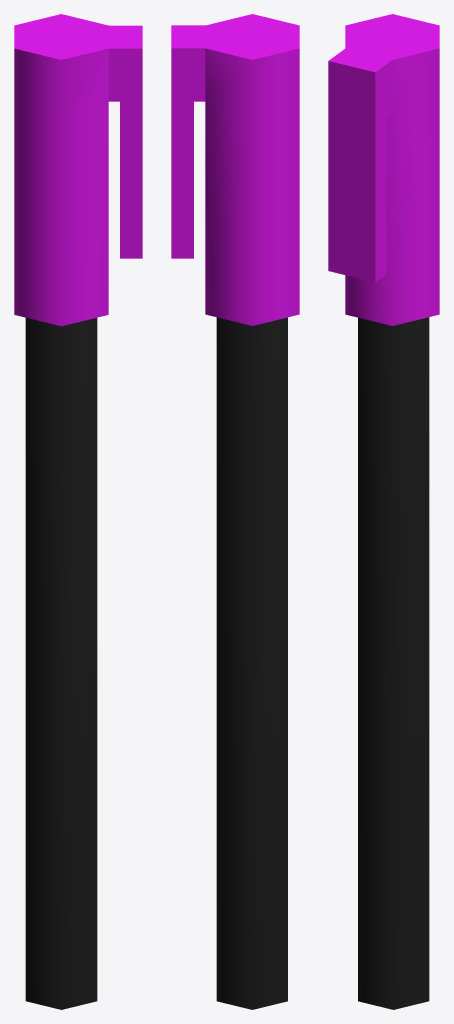
File: boli_violeta.FBX
3 renders of one model, left to right at view 1: azimuth 30°, elevation 25°; view 2: azimuth 210°, elevation 25°; view 3: azimuth 270°, elevation 25°, orthographic.
Parts seen in each view (by area): view 1: Cylinder006; view 2: Cylinder006; view 3: Cylinder006.
Part boxes in pixels (x1,y1,x2,y2): Cylinder006: (14,14,142,1009); Cylinder006: (171,14,299,1009); Cylinder006: (328,14,439,1009).
Size of the model in its own units: 0.5008 by 3.82 by 0.4028.
